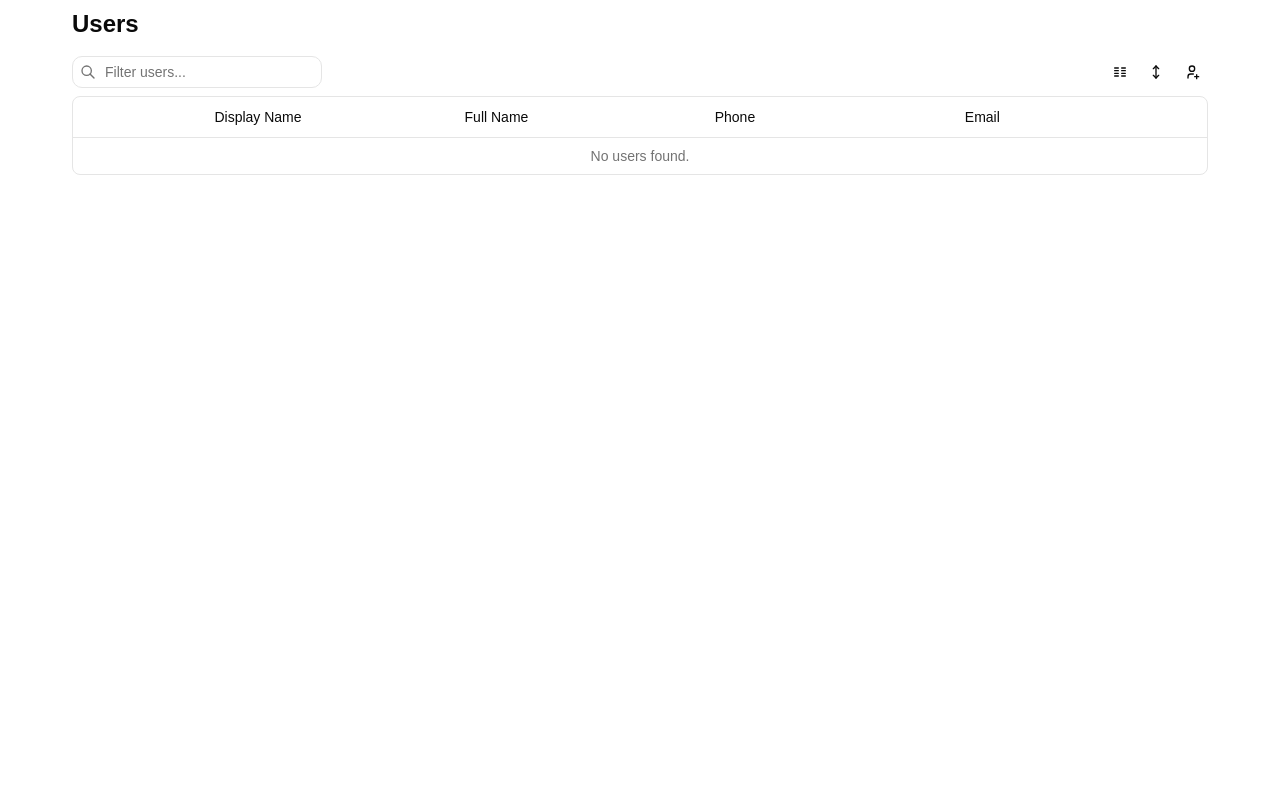
Test case: UsersPage › validates the add-user form and does not submit invalid input
Click the button named "Add user" at (1192, 72), box 1176,56 -> 1208,88
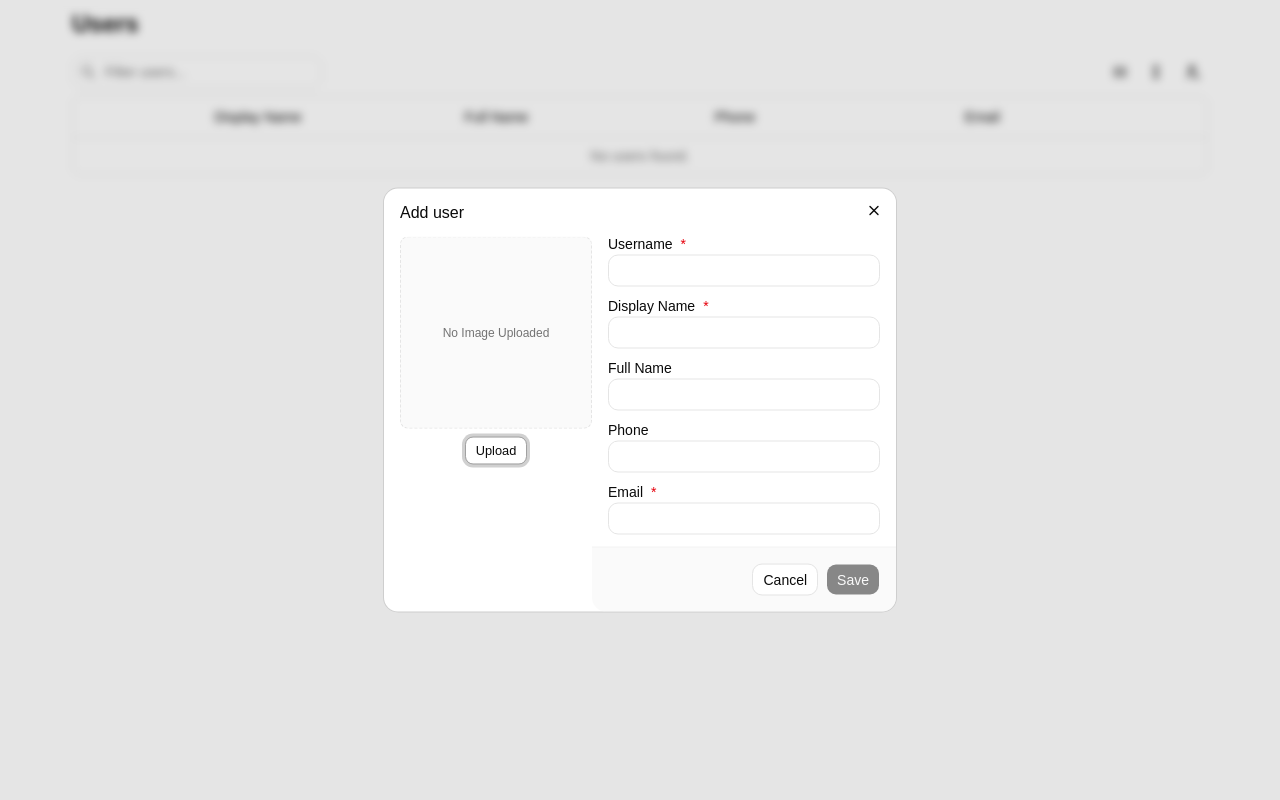
Type "jdoe" into the field labelled "Username *" at (744, 270), box 608,254 -> 880,286
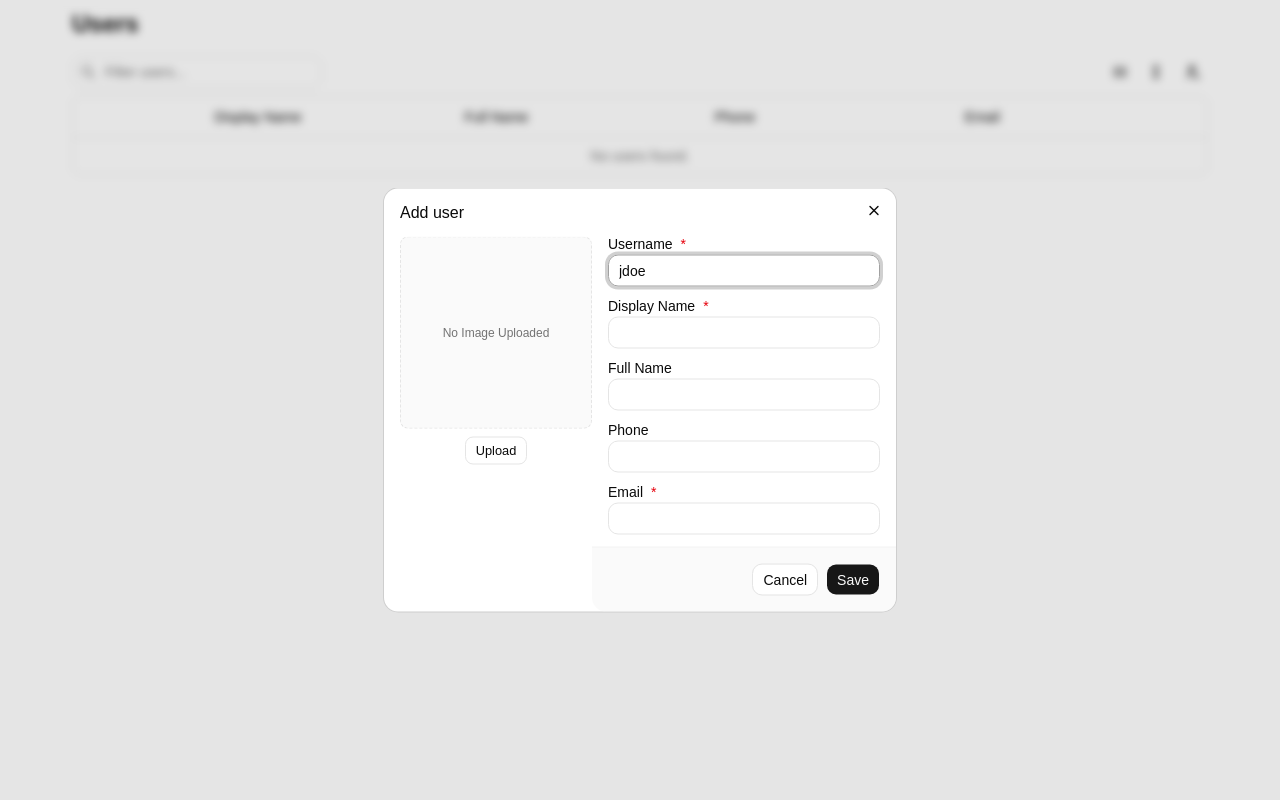
Type "John" into the field labelled "Display Name *" at (744, 332), box 608,316 -> 880,348
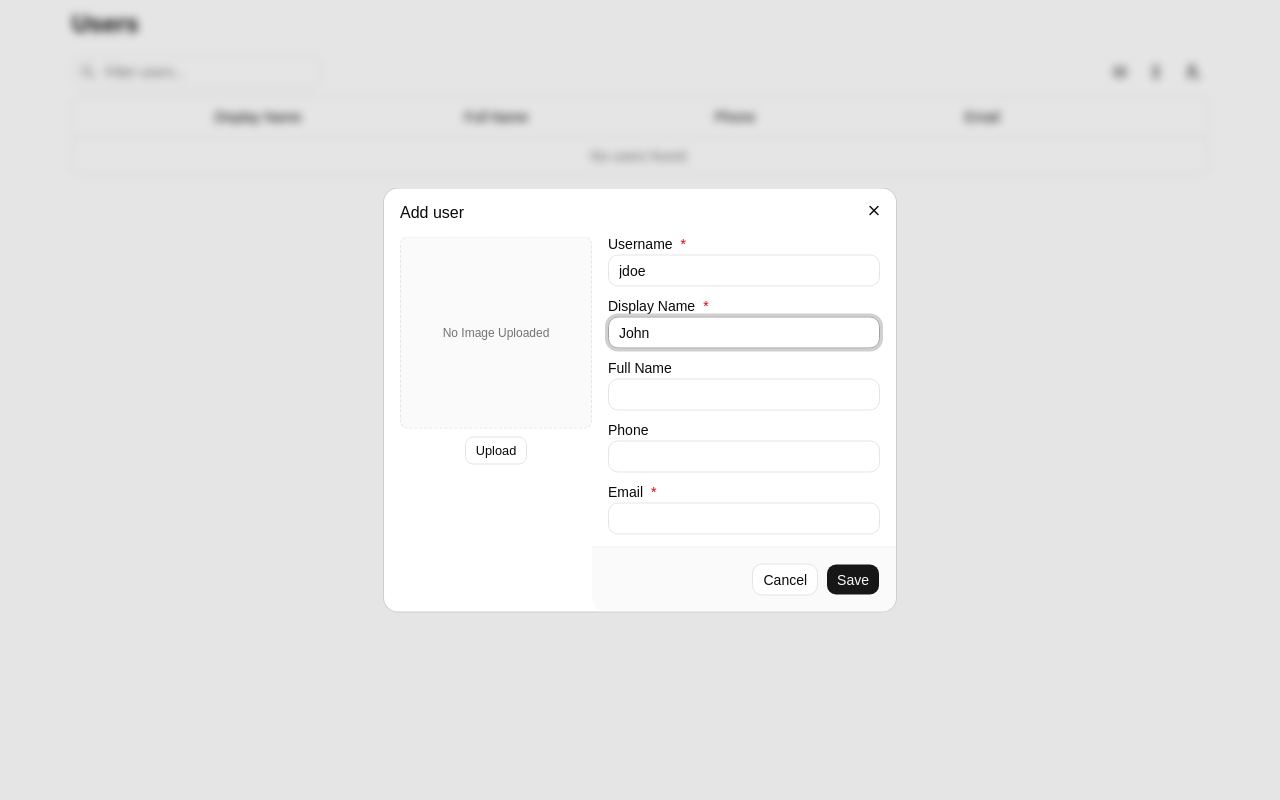
Type "not-an-email" into the field labelled "Email *" at (744, 518), box 608,502 -> 880,534
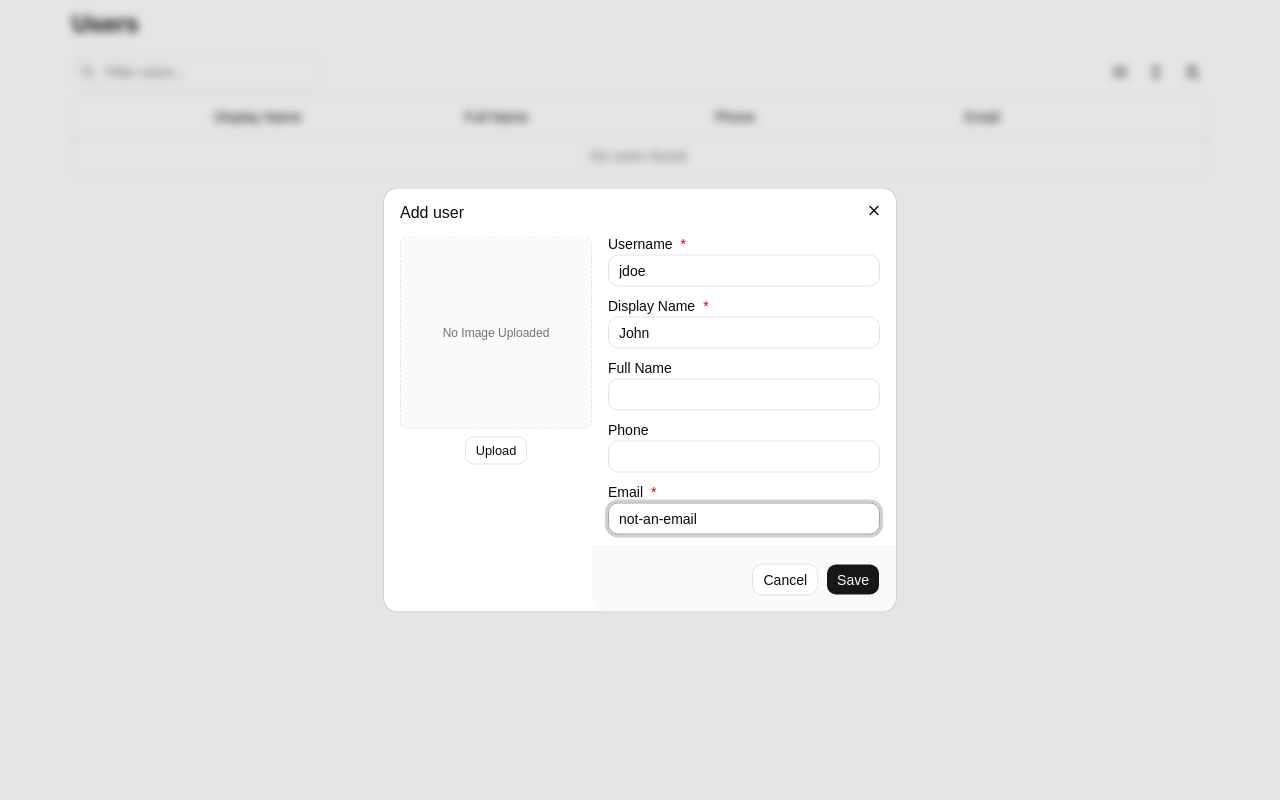
Click the button "Save" at (853, 580), box 826,564 -> 880,596
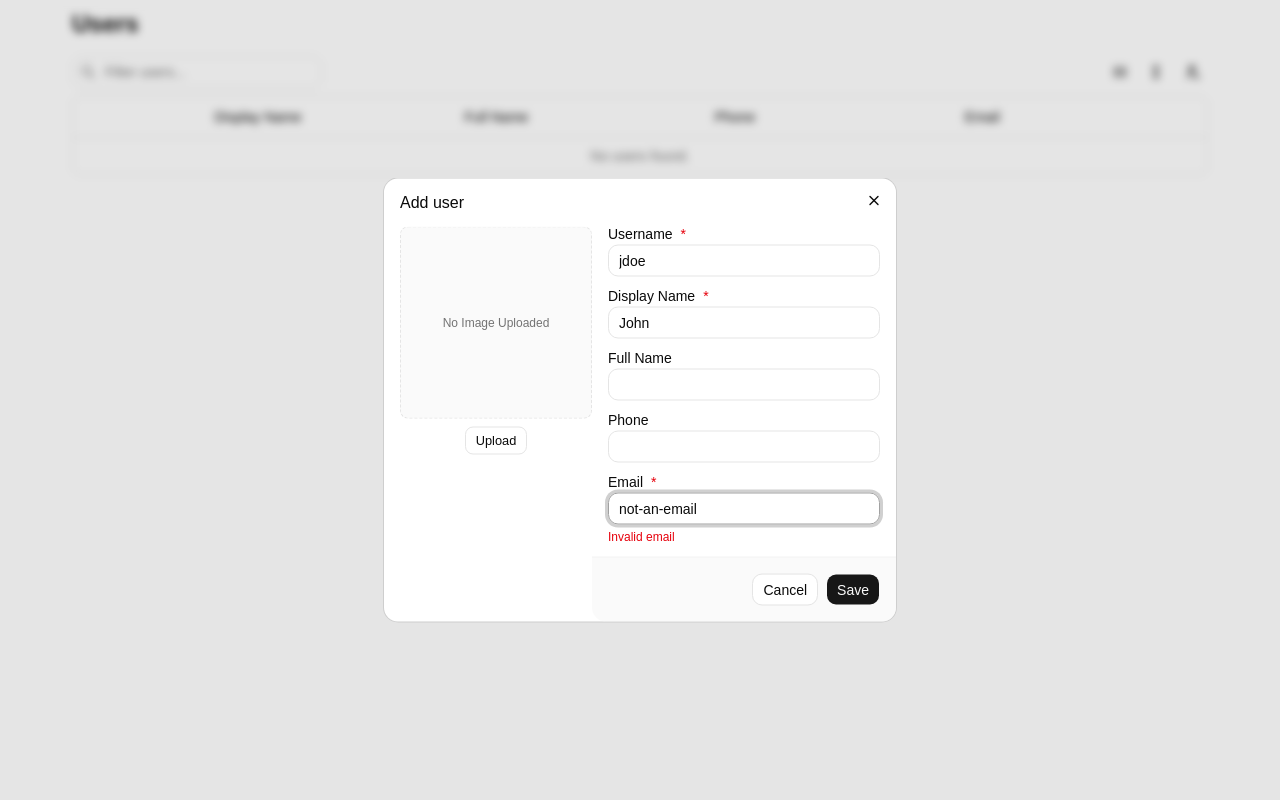
Now the text "Invalid email" is shown, box 608,530 -> 675,544
